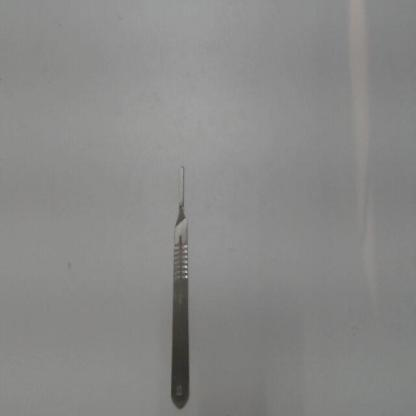No.4 BP Handle: (168, 159, 196, 415)
